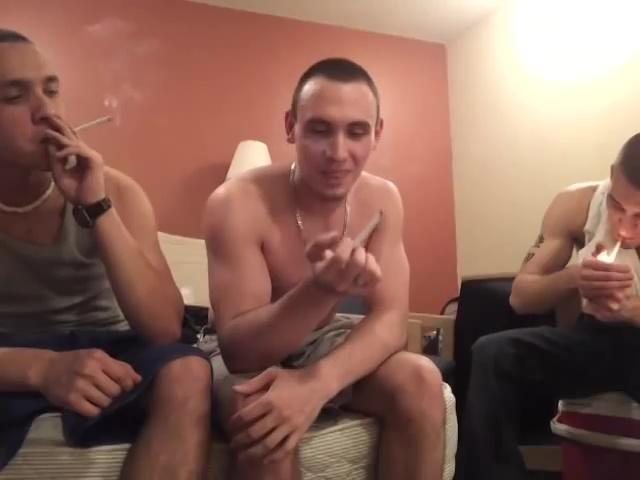cigarette: (349, 207, 390, 251), (68, 110, 119, 134), (604, 238, 628, 269)
